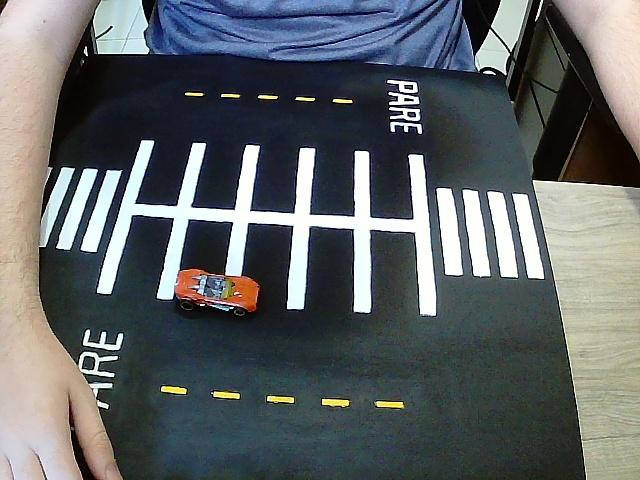Carro: (175, 269, 261, 317)
